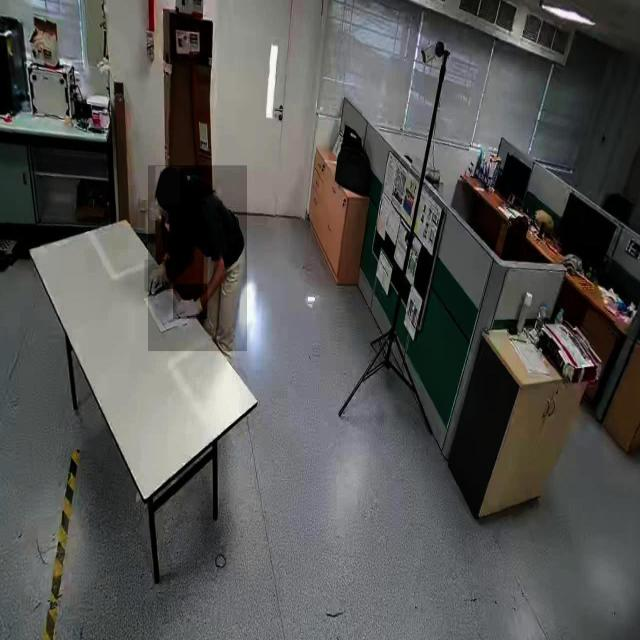hand_glove: (173, 284, 208, 320), (144, 260, 172, 292)
head_nohelmet: (156, 167, 180, 206)
person: (148, 165, 248, 352)
